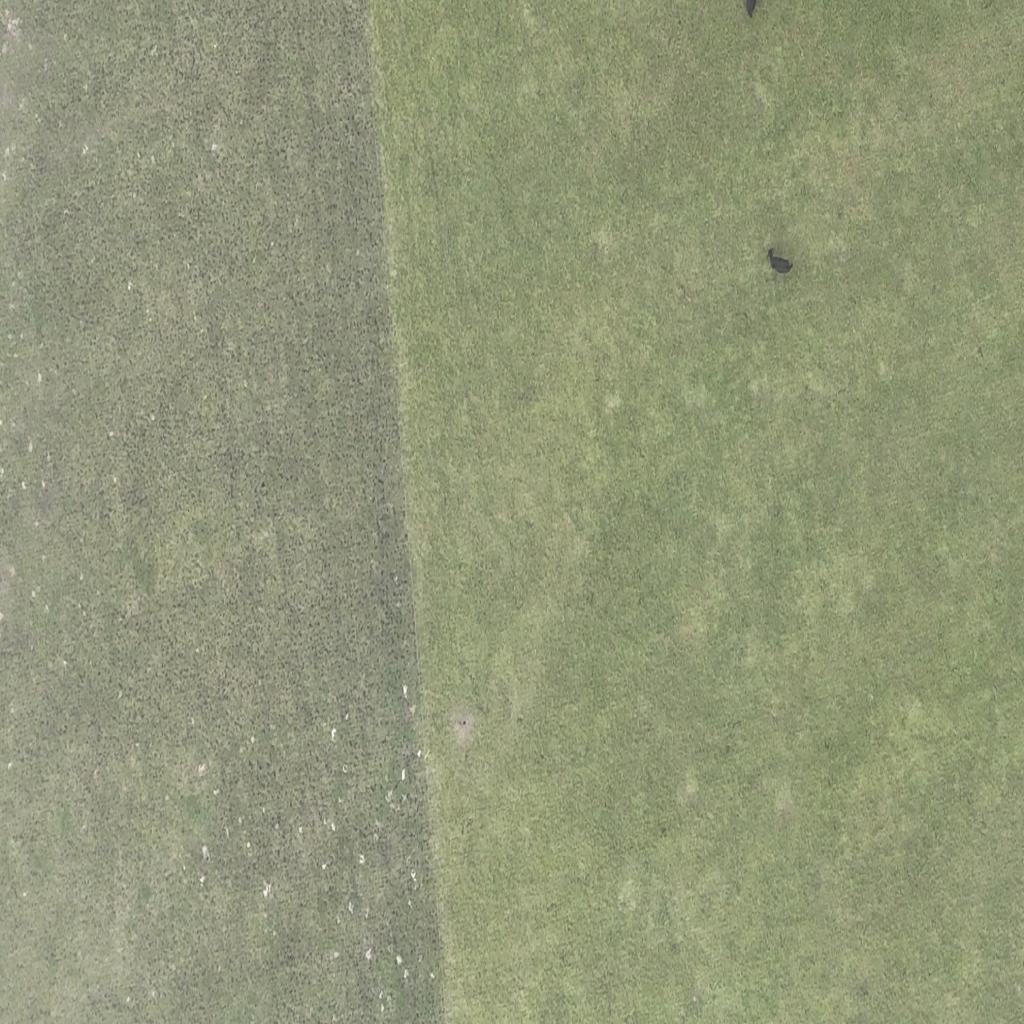cow: (766, 246, 795, 278)
